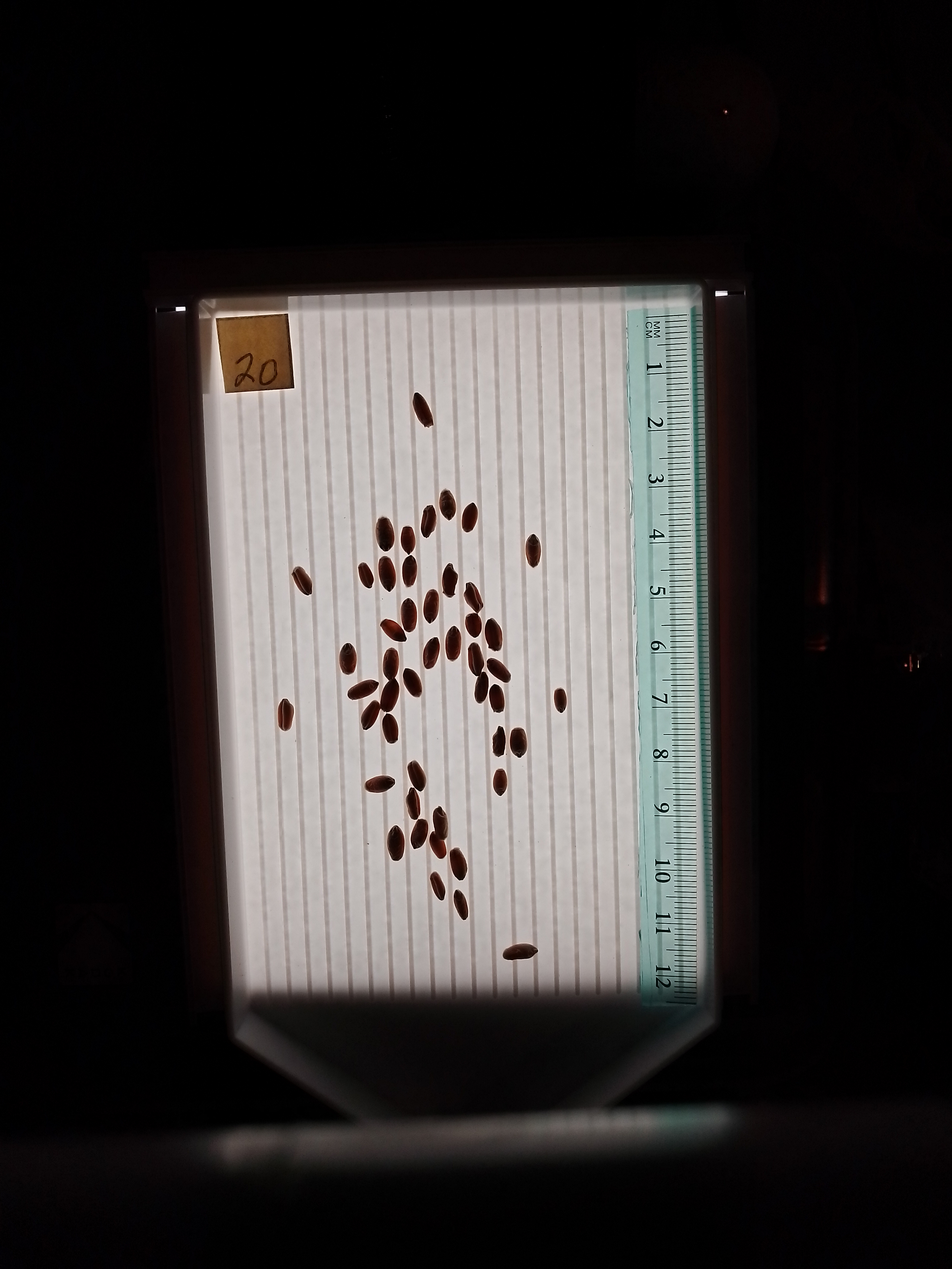seed mask: (413, 393, 433, 427), (380, 681, 400, 712), (376, 517, 394, 551), (503, 943, 537, 961), (379, 556, 396, 591), (387, 826, 404, 861), (349, 679, 377, 700), (277, 700, 295, 731), (485, 619, 503, 650), (381, 618, 405, 641), (408, 761, 426, 791), (293, 567, 312, 595), (361, 701, 380, 729), (403, 669, 422, 697), (487, 659, 510, 682), (401, 599, 417, 632), (510, 728, 528, 757), (526, 535, 542, 567), (423, 590, 439, 622), (450, 849, 467, 879), (411, 819, 428, 849), (446, 626, 461, 660), (365, 775, 393, 793), (423, 638, 439, 669), (420, 506, 436, 536), (340, 644, 356, 674), (383, 649, 399, 679), (443, 565, 458, 596), (433, 807, 448, 838), (468, 644, 483, 675), (439, 490, 455, 519), (402, 556, 417, 586), (462, 504, 478, 532), (383, 715, 399, 743), (465, 584, 482, 610), (489, 686, 505, 713), (453, 891, 468, 919), (430, 833, 446, 859), (358, 563, 374, 588), (492, 728, 506, 756), (401, 526, 415, 553), (476, 674, 489, 703), (431, 874, 445, 900), (493, 769, 506, 795), (466, 615, 482, 636), (408, 792, 420, 818), (554, 688, 566, 712)
